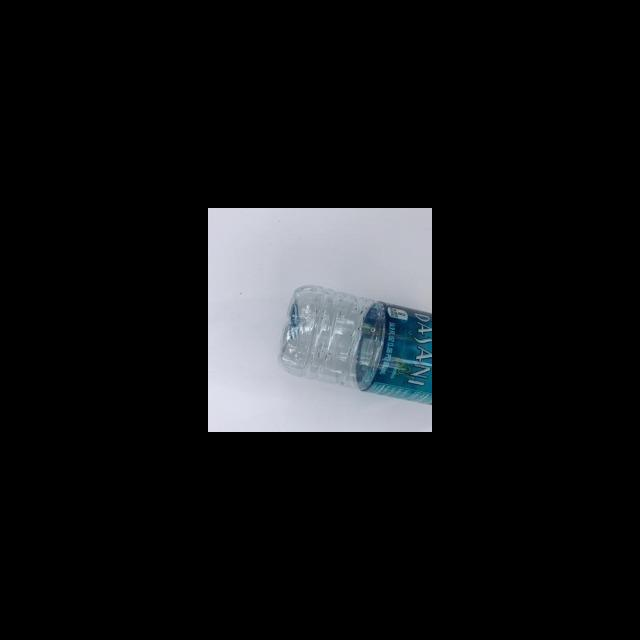plastic: (279, 280, 432, 412)
